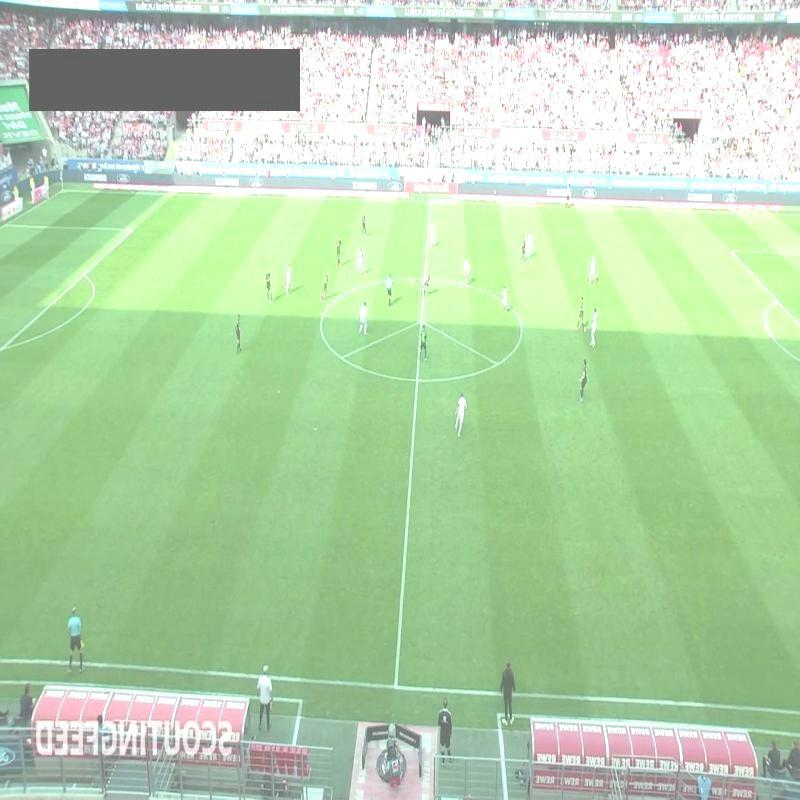1: (55, 184, 70, 198)
10: (770, 294, 786, 310), (77, 266, 92, 280)
11: (0, 343, 8, 352)
13: (423, 194, 437, 208)
14: (418, 271, 432, 285)
15: (410, 374, 424, 388)
16: (388, 677, 404, 696)
2: (0, 218, 14, 232)
9: (722, 242, 744, 260), (124, 222, 138, 236)
c: (315, 316, 329, 330), (515, 322, 528, 335)
